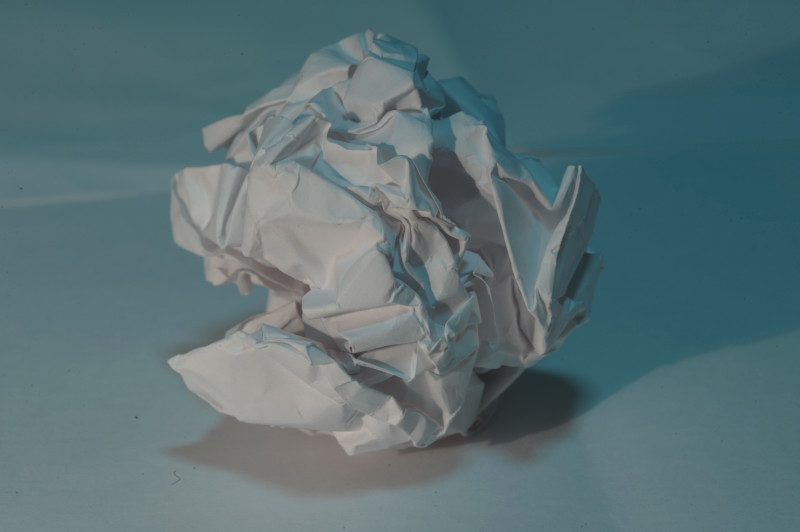flexible: (161, 33, 608, 454)
